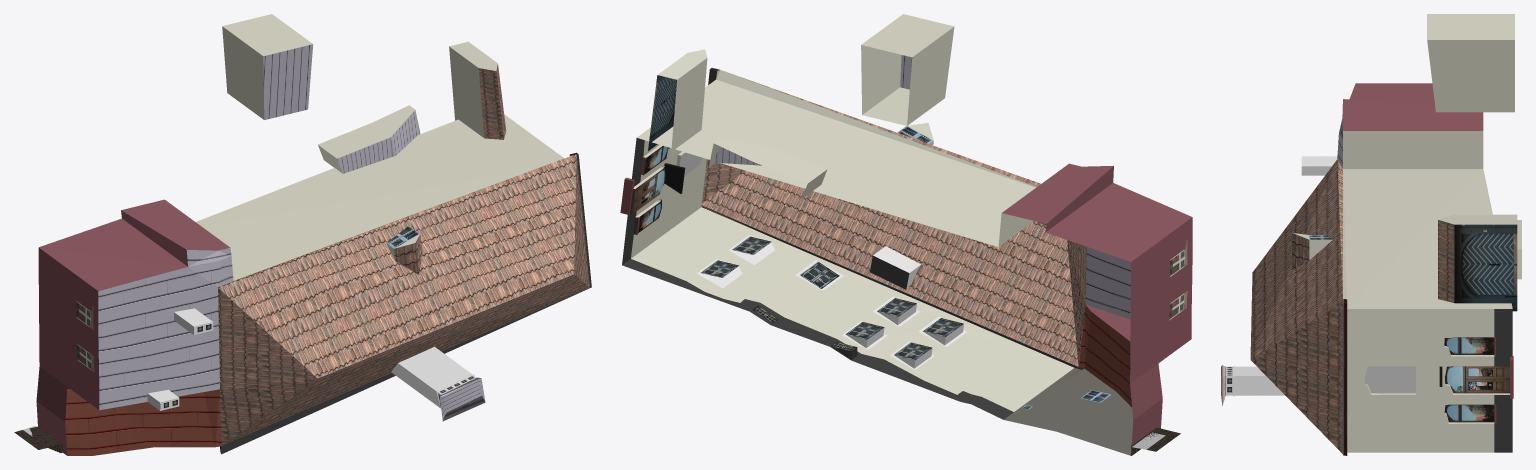
File: Ryytli11-origo.obj
The picture shows the model from 3 angles, left to right: view 1: azimuth 30°, elevation 25°; view 2: azimuth 150°, elevation 25°; view 3: azimuth 270°, elevation 25°; orthographic projection. The views are drawn at different scales.
Parts seen in each view (by area): view 1: Ryytli_11; view 2: Ryytli_11; view 3: Ryytli_11.
Boxes of the visible parts, <box> form: Ryytli_11: <box>14,14,591,455</box>; Ryytli_11: <box>620,14,1192,455</box>; Ryytli_11: <box>1221,14,1521,455</box>.
Bounding box in the file's own units: 31.5 × 20.5 × 14.99.
